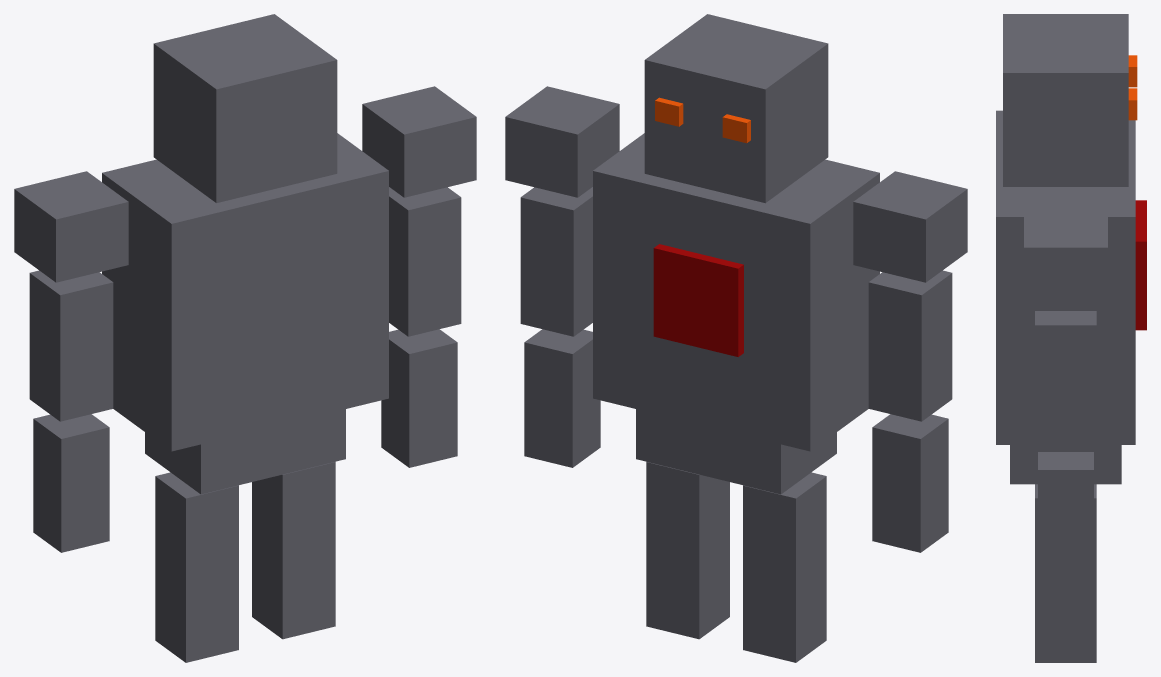
Rendered from overseer_unit7.glb.
The picture shows the model from 3 angles, left to right: view 1: azimuth 30°, elevation 25°; view 2: azimuth 150°, elevation 25°; view 3: azimuth 270°, elevation 25°; orthographic projection.
Size of the model in its own units: 1.74 by 2.3 by 0.54.
